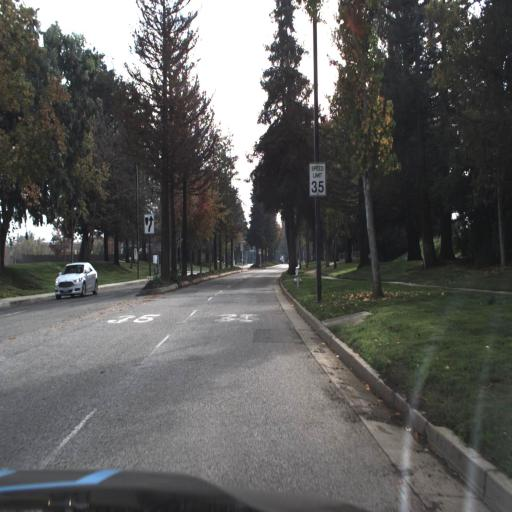car: (54, 262, 98, 299)
